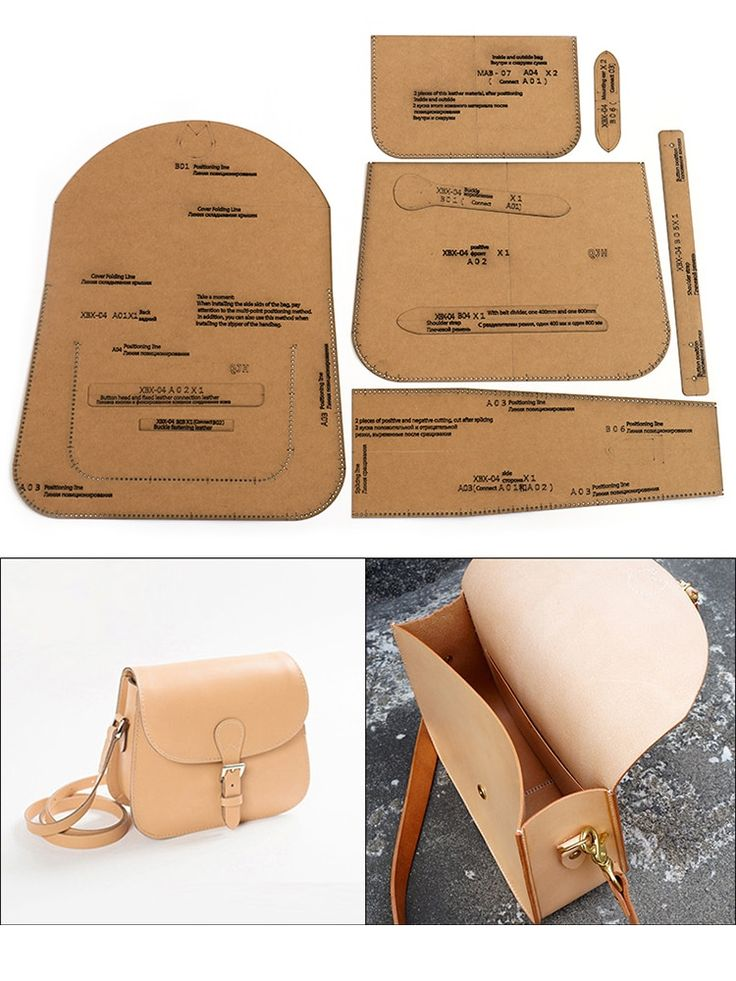cuero: (27, 558, 711, 921)
